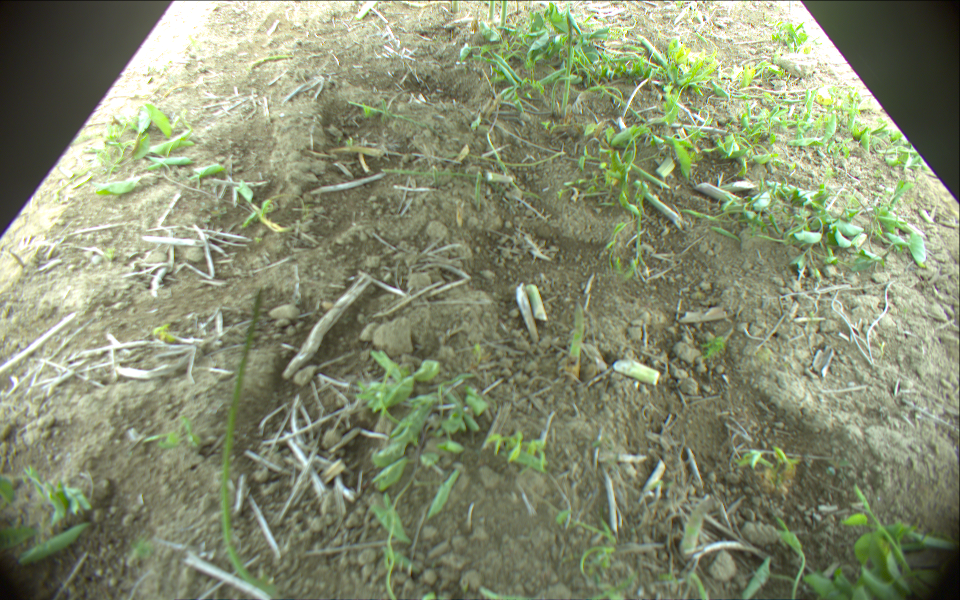aspa: (221, 285, 283, 600), (679, 495, 721, 557), (560, 12, 576, 118), (610, 358, 659, 385), (565, 300, 582, 364), (528, 282, 550, 325), (499, 1, 508, 27), (488, 1, 495, 22)
